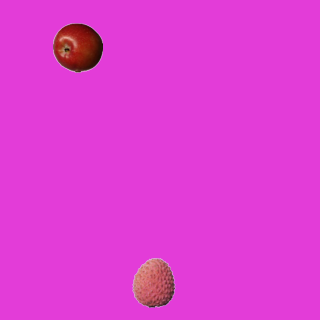Apple Braeburn: (52, 22, 102, 72)
Lychee: (128, 257, 178, 307)
